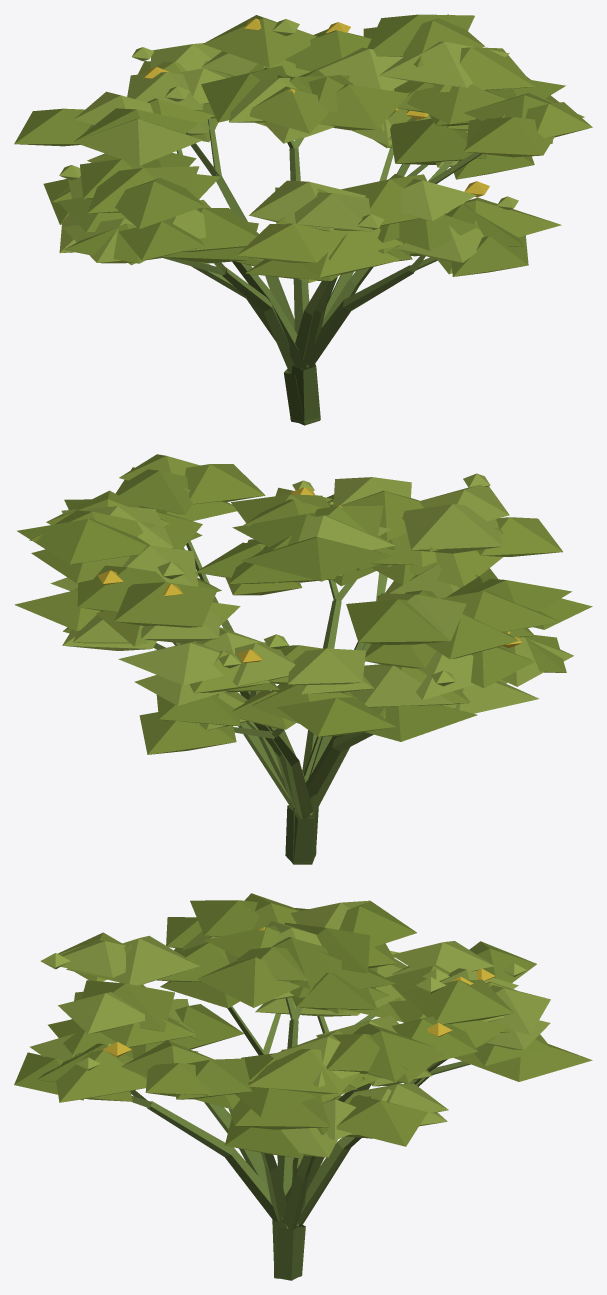
Rendered from paloverde.glb.
3 views of the same model, one above another, from view 1: azimuth 30°, elevation 25°; view 2: azimuth 150°, elevation 25°; view 3: azimuth 270°, elevation 25° (orthographic). The views are drawn at different scales.
Visible parts, largest first — view 1: paloverde_v0, paloverde_v2, paloverde_v1; view 2: paloverde_v2, paloverde_v0, paloverde_v1; view 3: paloverde_v0, paloverde_v2, paloverde_v1.
Boxes of the visible parts, x1,y1,x2,y2 form: paloverde_v0: (73,15,592,425); paloverde_v2: (43,14,559,423); paloverde_v1: (14,67,534,423); paloverde_v2: (17,473,573,863); paloverde_v0: (64,454,571,856); paloverde_v1: (14,505,592,864); paloverde_v0: (14,893,514,1278); paloverde_v2: (40,921,550,1280); paloverde_v1: (74,917,592,1276).
Size of the model in its own units: 6.98 by 4.63 by 7.2.
